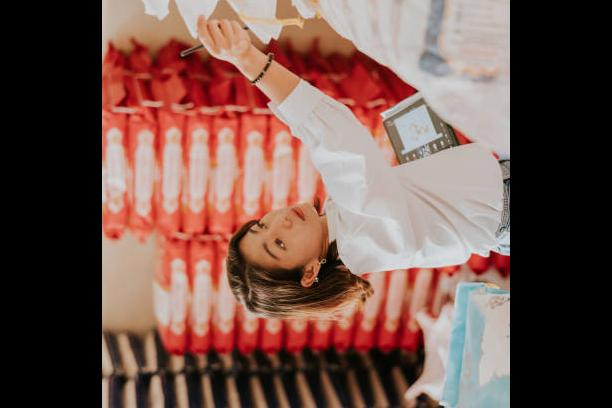Non_Gorille: (114, 0, 508, 408)
